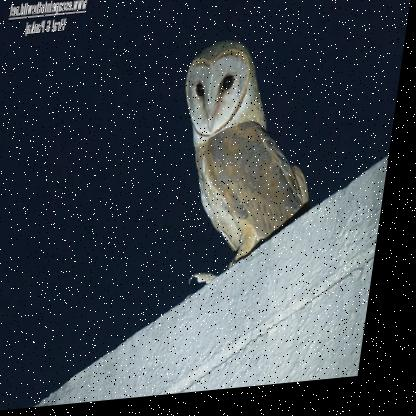Burung: (170, 34, 341, 254)
